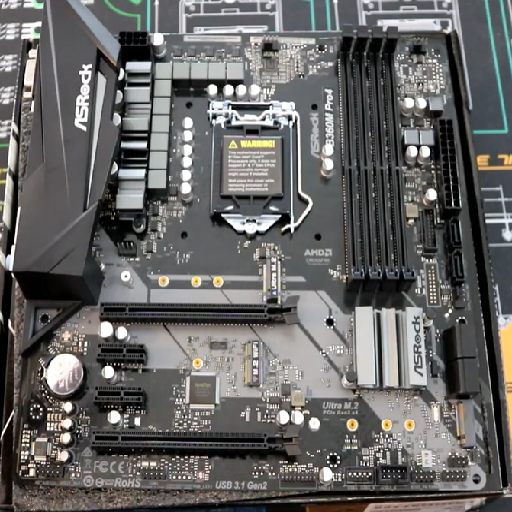CPU: (202, 90, 312, 238)
GPU: (84, 289, 304, 337), (88, 421, 306, 465)
MOTHERBOARD: (9, 11, 505, 500)
RAM: (331, 19, 423, 310)
SSD: (254, 242, 289, 307), (237, 335, 271, 393)
